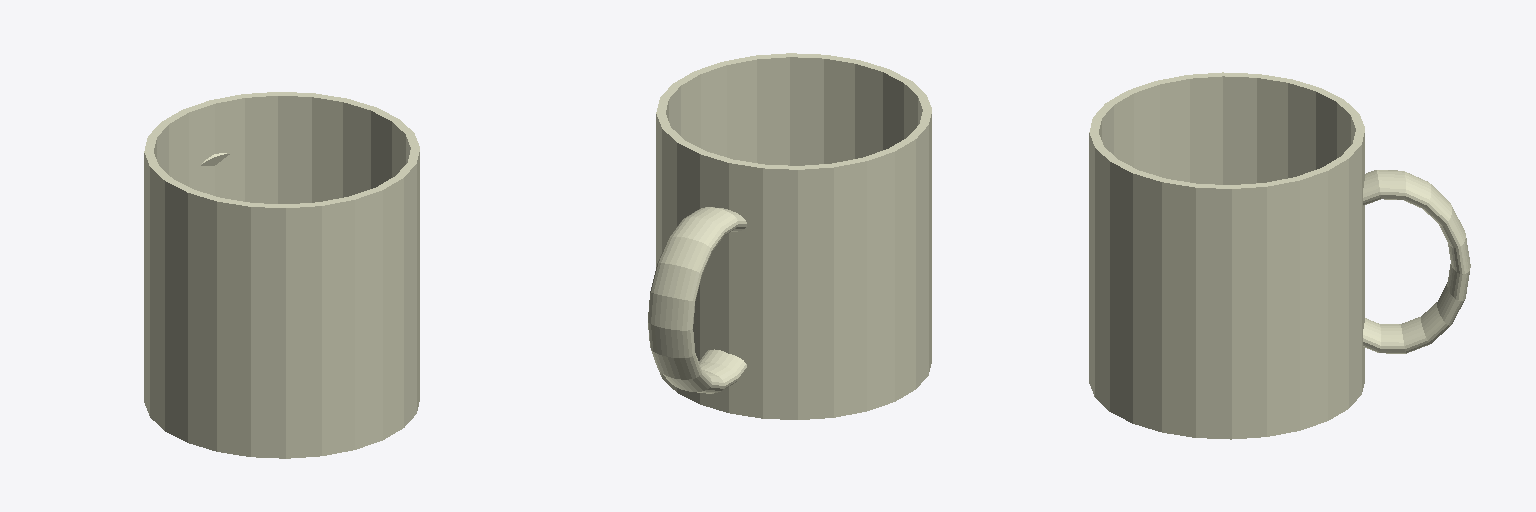
3 renders of one model, left to right at view 1: azimuth 30°, elevation 25°; view 2: azimuth 150°, elevation 25°; view 3: azimuth 270°, elevation 25°, orthographic.
Parts seen in each view (by area): view 1: model_normalized.013; view 2: model_normalized.013; view 3: model_normalized.013.
Boxes of the visible parts, x1=… form: model_normalized.013: x1=144, y1=92, x2=419, y2=458; model_normalized.013: x1=648, y1=53, x2=931, y2=419; model_normalized.013: x1=1089, y1=72, x2=1470, y2=439.
Size of the model in its own units: 0.5059 by 0.506 by 0.6986.